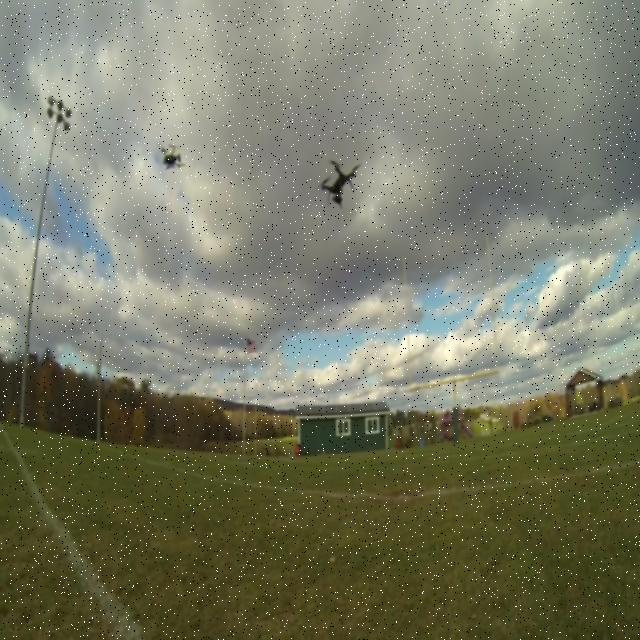UAV: (318, 160, 362, 209), (158, 143, 186, 170)
